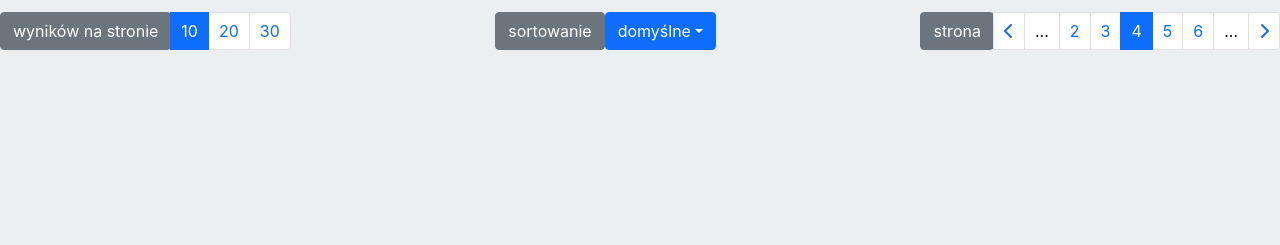
Test: SortPanel subcomponent tests › should allow changing sorting method by clicking on it
Click the button "domyślne".
click(660, 31)  # box [605,12,716,50]
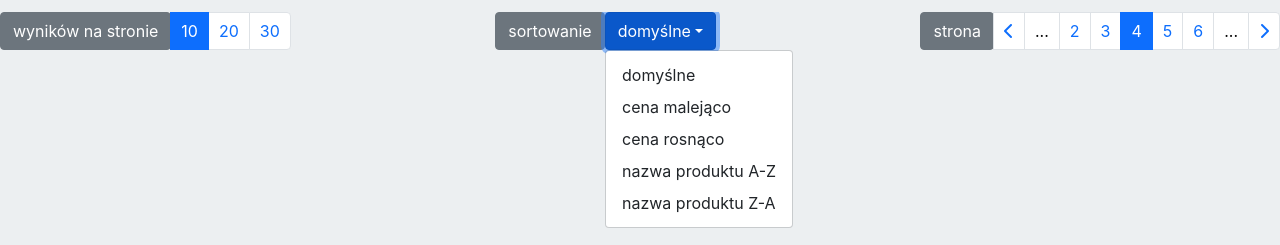
Click the text "cena malejąco".
click(676, 107)  # box [622,97,731,117]
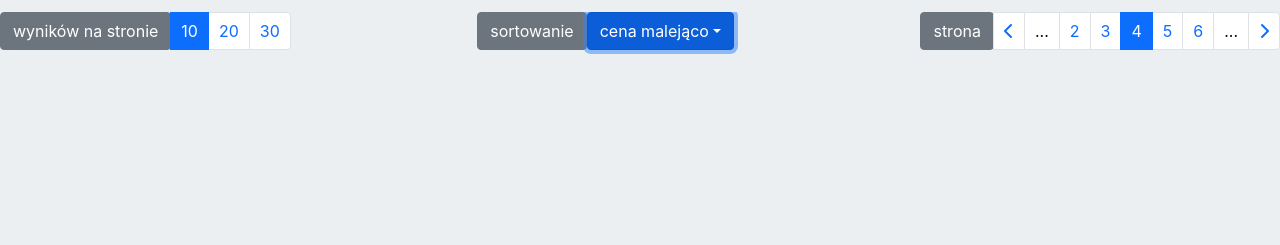
Result: the button "cena malejąco" is shown at [587,12,734,50]
